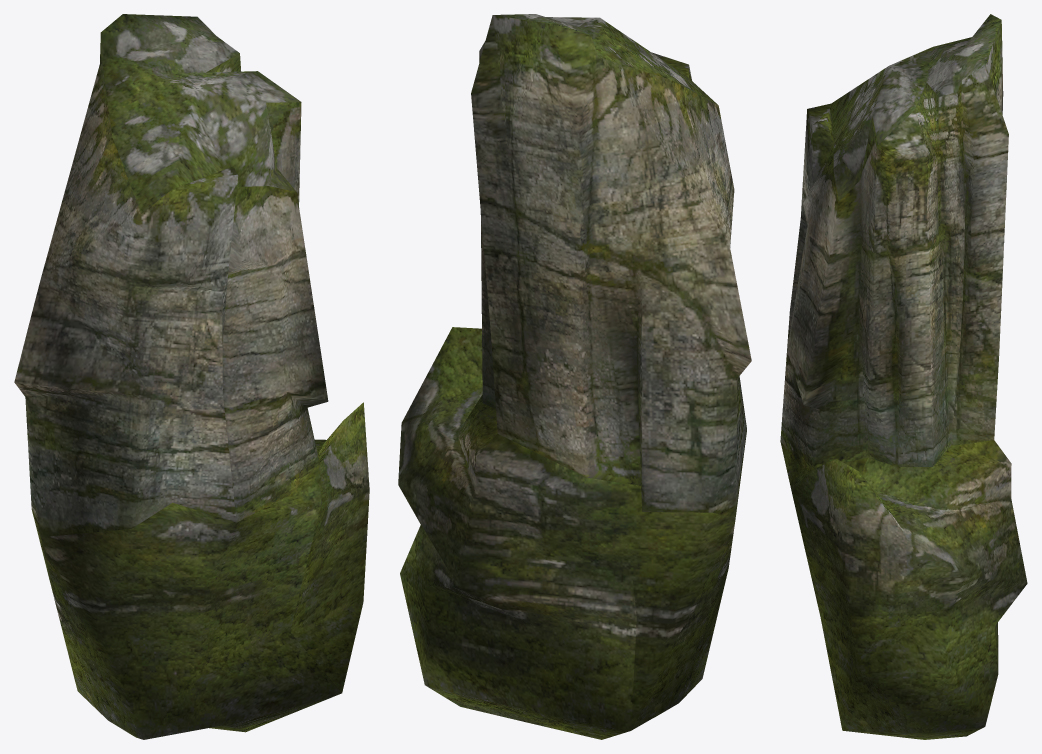
The model's file is Maincity03_Stone_11_LOD2.FBX.
3 views of the same model, side by side, from view 1: azimuth 30°, elevation 25°; view 2: azimuth 150°, elevation 25°; view 3: azimuth 270°, elevation 25° (orthographic). The views are drawn at different scales.
Parts seen in each view (by area): view 1: hyc_xinshanshi06_LOD2; view 2: hyc_xinshanshi06_LOD2; view 3: hyc_xinshanshi06_LOD2.
Boxes of the visible parts, x1,y1,x2,y2 form: hyc_xinshanshi06_LOD2: (14,14,369,739); hyc_xinshanshi06_LOD2: (398,14,751,739); hyc_xinshanshi06_LOD2: (780,14,1027,739).
Bounding box in the file's own units: 1265 × 2500 × 825.
